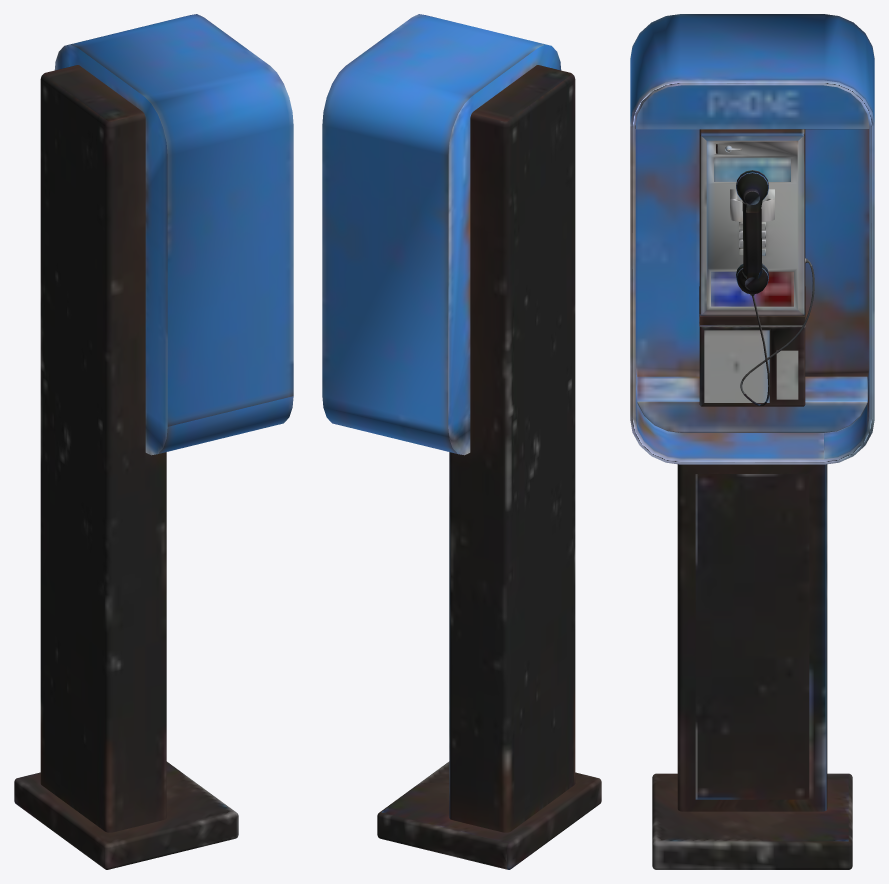
Rendered from payphone.glb.
3 renders of one model, left to right at view 1: azimuth 30°, elevation 25°; view 2: azimuth 150°, elevation 25°; view 3: azimuth 270°, elevation 25°, orthographic. The views are drawn at different scales.
Parts seen in each view (by area): view 1: Sweep; view 2: Sweep; view 3: Sweep.
Boxes of the visible parts, bbox=[...] form: Sweep: bbox=[14, 14, 293, 869]; Sweep: bbox=[322, 14, 601, 869]; Sweep: bbox=[630, 14, 874, 869].
Bounding box in the file's own units: 0.3862 × 1.56 × 0.4261.
1 material, 1 textured.
